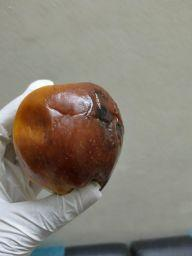Apple Rotten: (16, 82, 126, 199)
